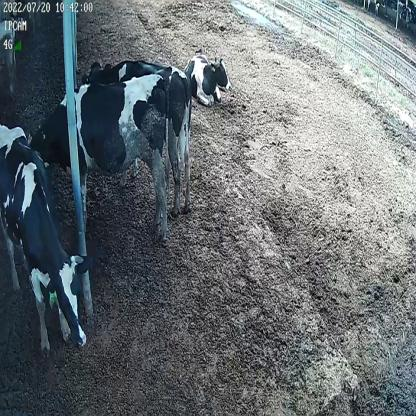cow: (31, 70, 172, 246), (0, 119, 92, 359), (83, 56, 191, 215), (184, 42, 229, 108)
